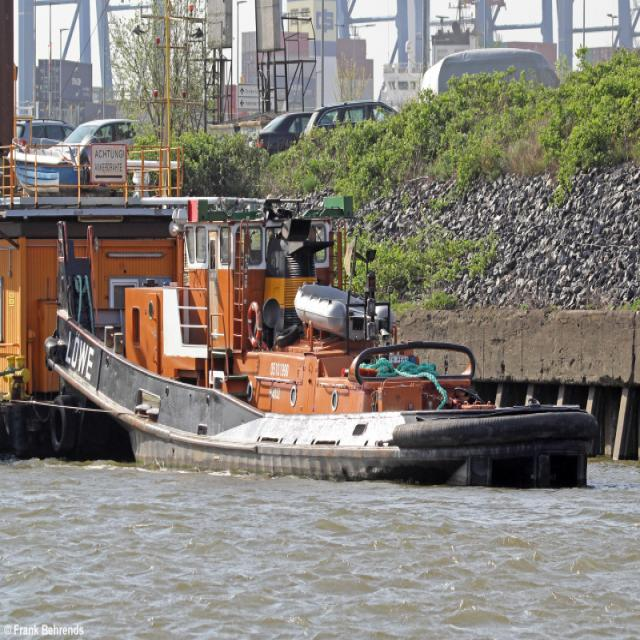tugboat: (50, 185, 606, 497)
